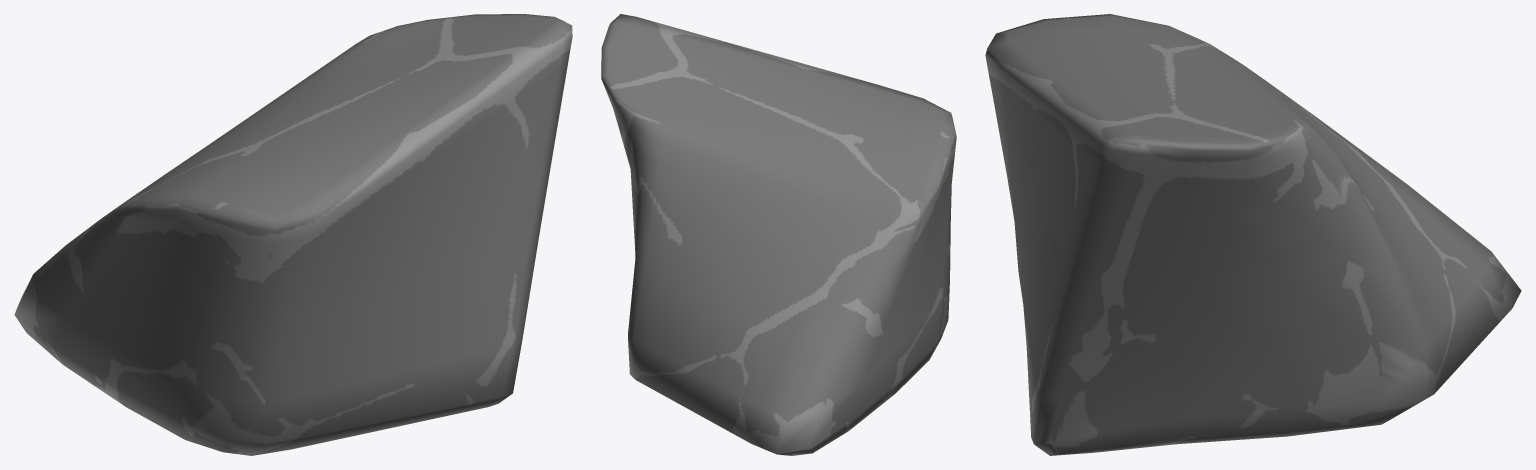
File: CTS_E_PalmRockD.fbx
The picture shows the model from 3 angles, left to right: view 1: azimuth 30°, elevation 25°; view 2: azimuth 150°, elevation 25°; view 3: azimuth 270°, elevation 25°; orthographic projection. The views are drawn at different scales.
Visible parts, largest first — view 1: CTS_E_PalmRockD; view 2: CTS_E_PalmRockD; view 3: CTS_E_PalmRockD.
Part boxes in pixels (x1,y1,x2,y2): CTS_E_PalmRockD: (14, 14, 572, 455); CTS_E_PalmRockD: (601, 14, 956, 455); CTS_E_PalmRockD: (985, 14, 1521, 455).
Size of the model in its own units: 593 by 463 by 597.
